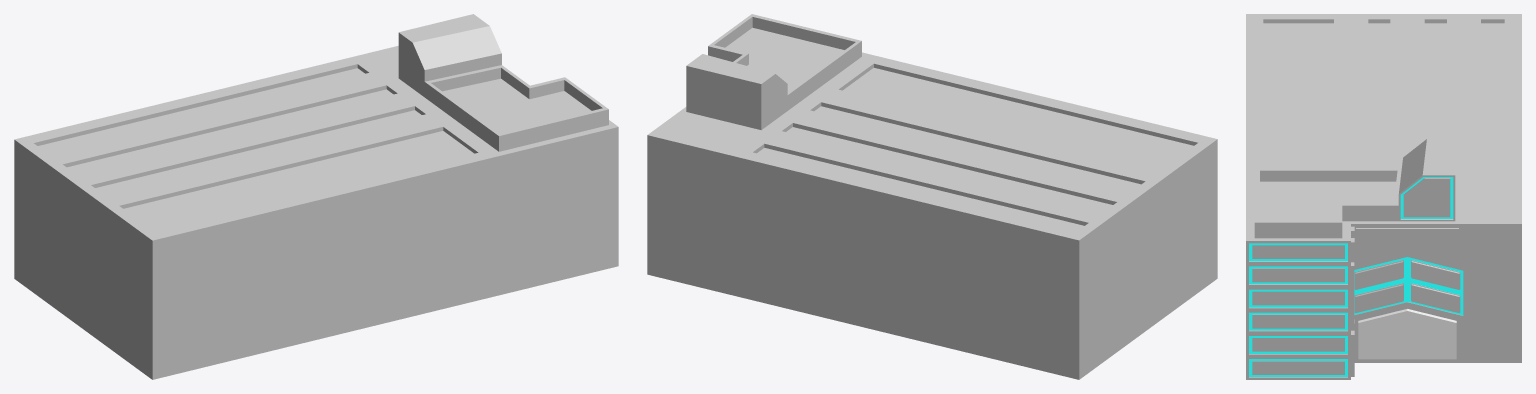
File: building7.glb
3 renders of one model, left to right at view 1: azimuth 30°, elevation 25°; view 2: azimuth 150°, elevation 25°; view 3: azimuth 270°, elevation 25°, orthographic.
Visible parts, largest first — view 1: Cube.036; view 2: Cube.036; view 3: Cube.036.
Part boxes in pixels (left/top/right/bottom): Cube.036: left=14, top=14, right=618, bottom=379; Cube.036: left=647, top=14, right=1217, bottom=379; Cube.036: left=1246, top=14, right=1521, bottom=379.
Size of the model in its own units: 58.43 by 22.2 by 30.01.
